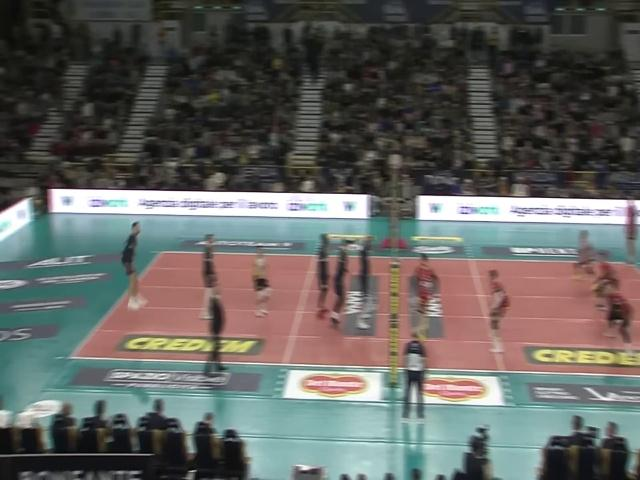volleyball court: (68, 247, 638, 374)
